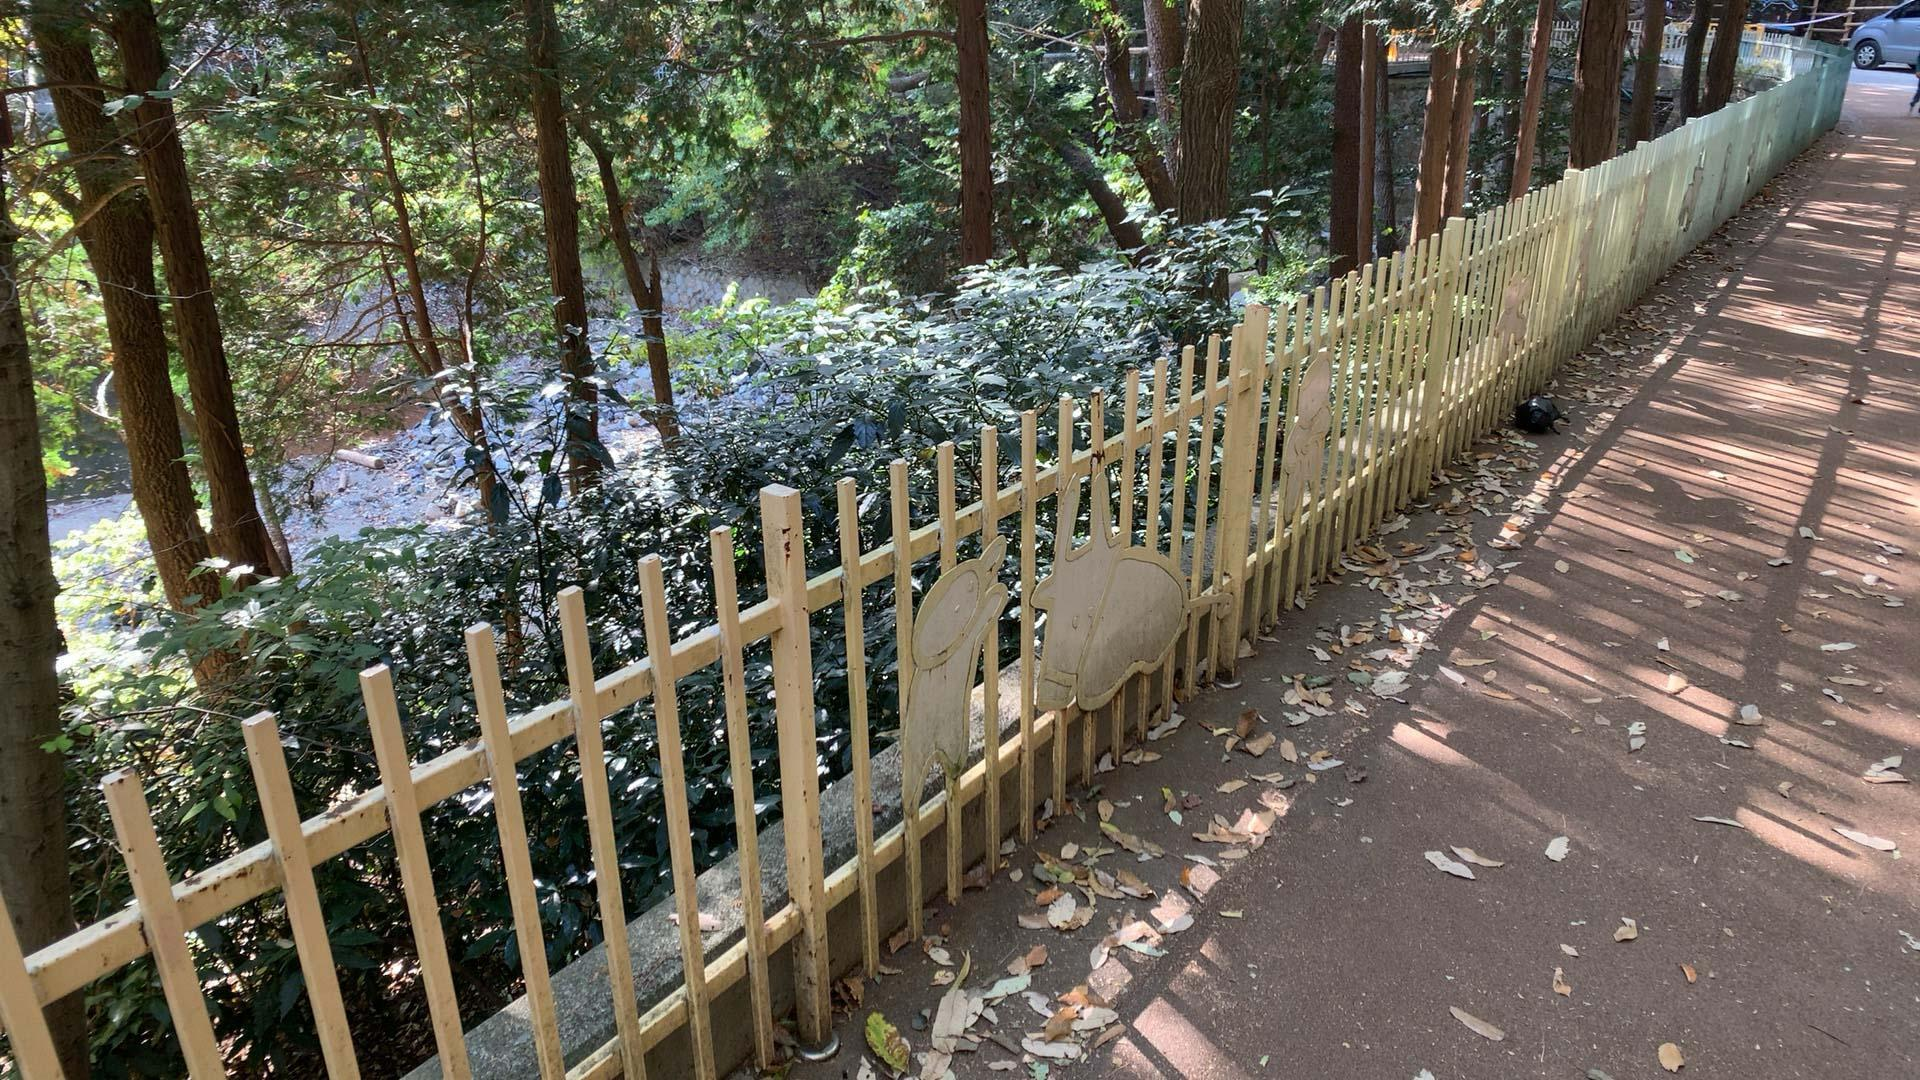black_bag: (1511, 389, 1572, 438)
